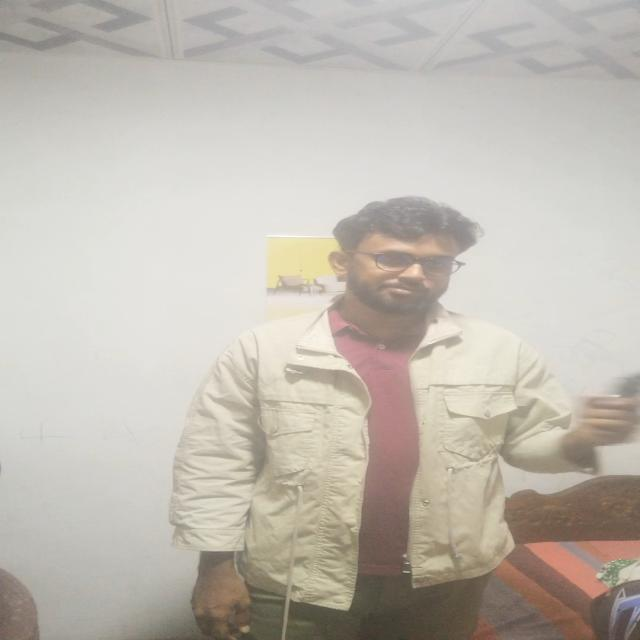Jacket_Wearer: (156, 298, 602, 588)
Person: (145, 191, 601, 640)
